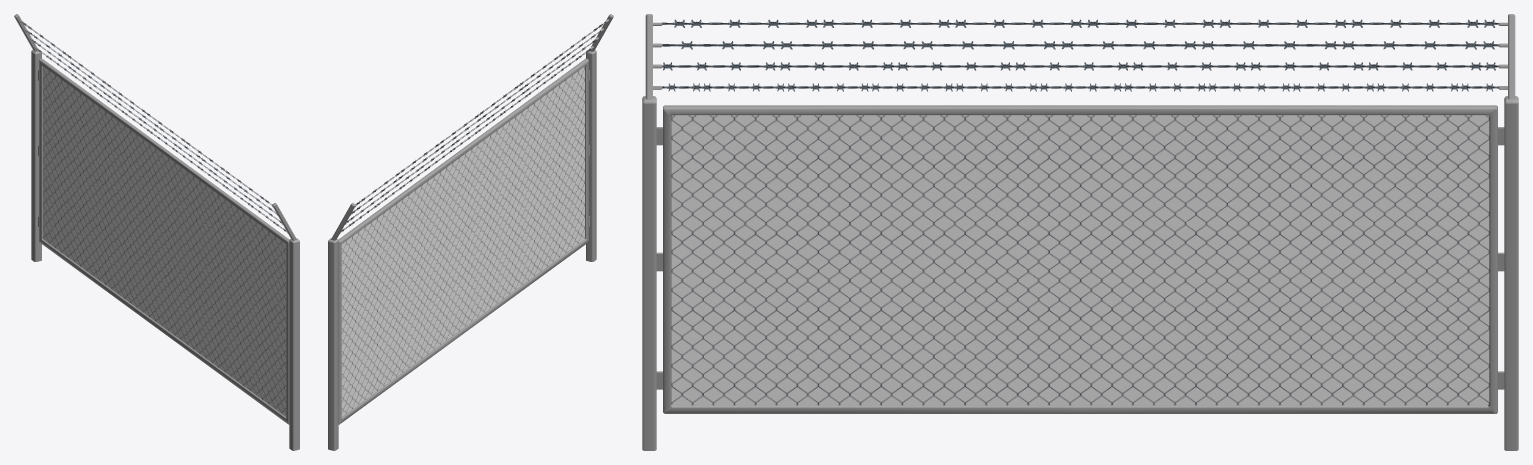
File: Fence.fbx
3 renders of one model, left to right at view 1: azimuth 30°, elevation 25°; view 2: azimuth 150°, elevation 25°; view 3: azimuth 270°, elevation 25°, orthographic. The views are drawn at different scales.
Visible parts, largest first — view 1: Fence_LOD0; view 2: Fence_LOD0; view 3: Fence_LOD0.
Part boxes in pixels (<box>): Fence_LOD0: <box>14,14,299,450</box>; Fence_LOD0: <box>328,14,613,450</box>; Fence_LOD0: <box>642,14,1518,450</box>.
Size of what is drawn, in the model's own units: 0.181 by 1.69 by 3.22.
